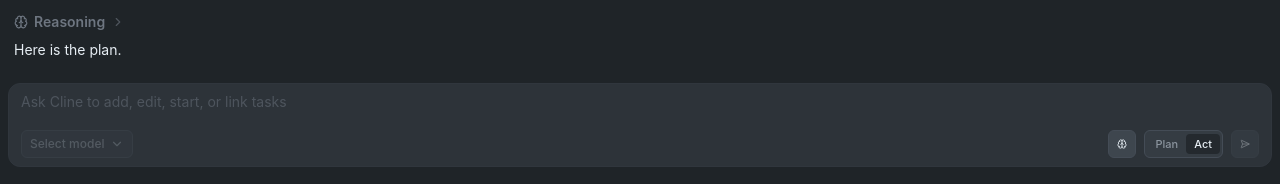
Test: ClineAgentChatPanel › hides reasoning messages when the reasoning toggle is turned off
Click the button named "Hide reasoning": (1122,144) [1108,130,1136,158]
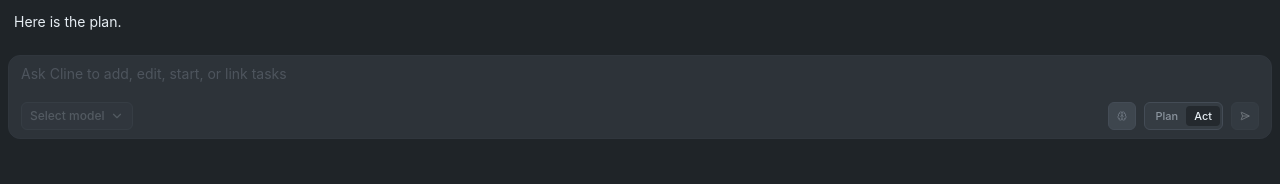
Expected: the text "Here is the plan." is shown, [14,13,122,30]
Result: the text "Reasoning" is gone
